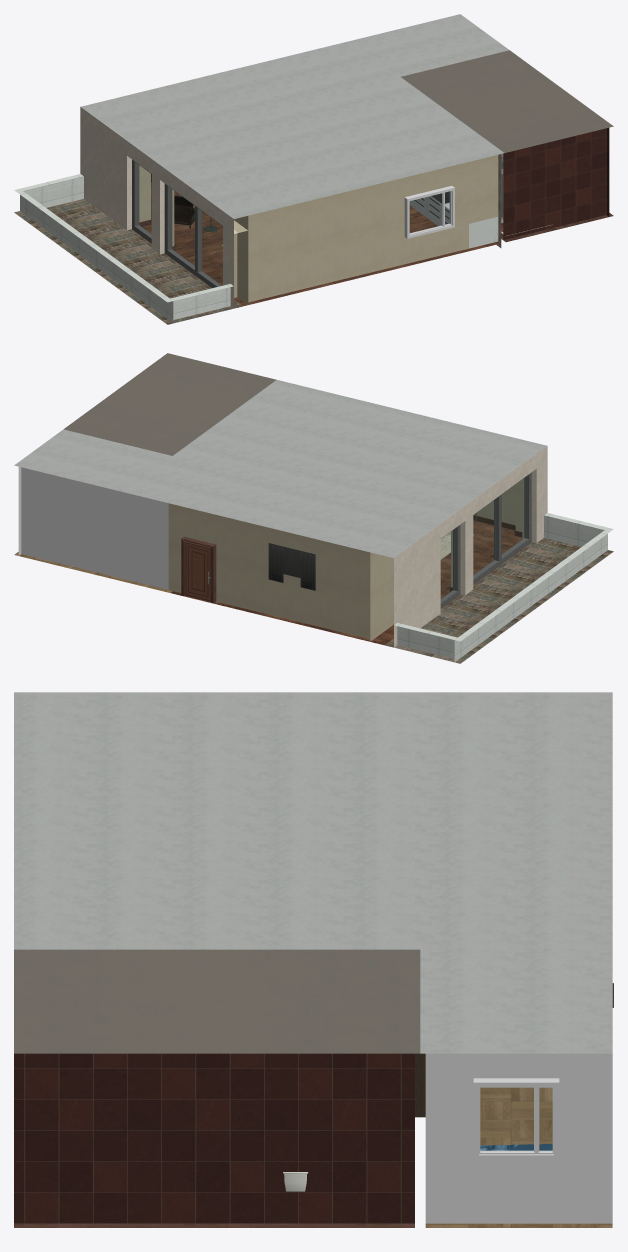
Rendered from confortable_appartment.glb.
The picture shows the model from 3 angles, top to bottom: view 1: azimuth 30°, elevation 25°; view 2: azimuth 150°, elevation 25°; view 3: azimuth 270°, elevation 25°; orthographic projection. The views are drawn at different scales.
Visible parts, largest first — view 1: Object_15, Object_26, Object_19, Object_4, Object_13, Object_24, Object_20, Object_31, Object_5, Object_10, Object_17; view 2: Object_15, Object_26, Object_30, Object_19, Object_4, Object_24, Object_20, Object_31, Object_17, Object_12, Object_27, Object_7; view 3: Object_15, Object_13, Object_19, Object_30, Object_4, Object_9.
Part boxes in pixels (bbox=[...]): Object_15: bbox=[81, 14, 509, 218]; Object_26: bbox=[139, 155, 498, 304]; Object_19: bbox=[401, 50, 613, 157]; Object_4: bbox=[14, 182, 613, 324]; Object_13: bbox=[501, 128, 609, 240]; Object_24: bbox=[80, 107, 238, 308]; Object_20: bbox=[14, 174, 233, 322]; Object_31: bbox=[132, 159, 222, 287]; Object_5: bbox=[222, 191, 498, 248]; Object_10: bbox=[404, 186, 454, 238]; Object_17: bbox=[174, 195, 218, 232]; Object_15: bbox=[14, 380, 546, 557]; Object_26: bbox=[168, 478, 524, 641]; Object_30: bbox=[18, 467, 168, 589]; Object_19: bbox=[64, 353, 276, 455]; Object_4: bbox=[14, 520, 613, 663]; Object_24: bbox=[394, 446, 547, 647]; Object_20: bbox=[394, 513, 613, 661]; Object_31: bbox=[440, 472, 531, 608]; Object_17: bbox=[268, 543, 315, 590]; Object_12: bbox=[185, 542, 210, 601]; Object_27: bbox=[181, 515, 522, 603]; Object_7: bbox=[184, 540, 212, 600]; Object_15: bbox=[14, 692, 612, 1053]; Object_13: bbox=[14, 1053, 414, 1223]; Object_19: bbox=[14, 949, 420, 1053]; Object_30: bbox=[425, 1053, 612, 1223]; Object_4: bbox=[14, 1087, 612, 1227]; Object_9: bbox=[473, 1078, 559, 1160].
Bounding box in the file's own units: 15.04 × 3.04 × 8.98.
31 materials, 23 textured.
